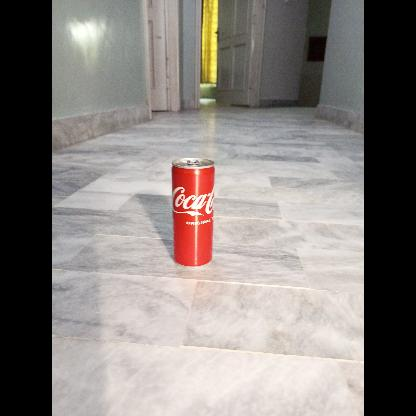Tin_Can: (172, 155, 218, 268)
